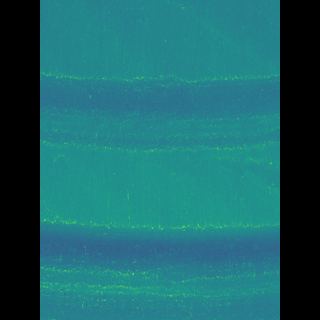Loch: (68, 216, 249, 320), (70, 69, 249, 153)
